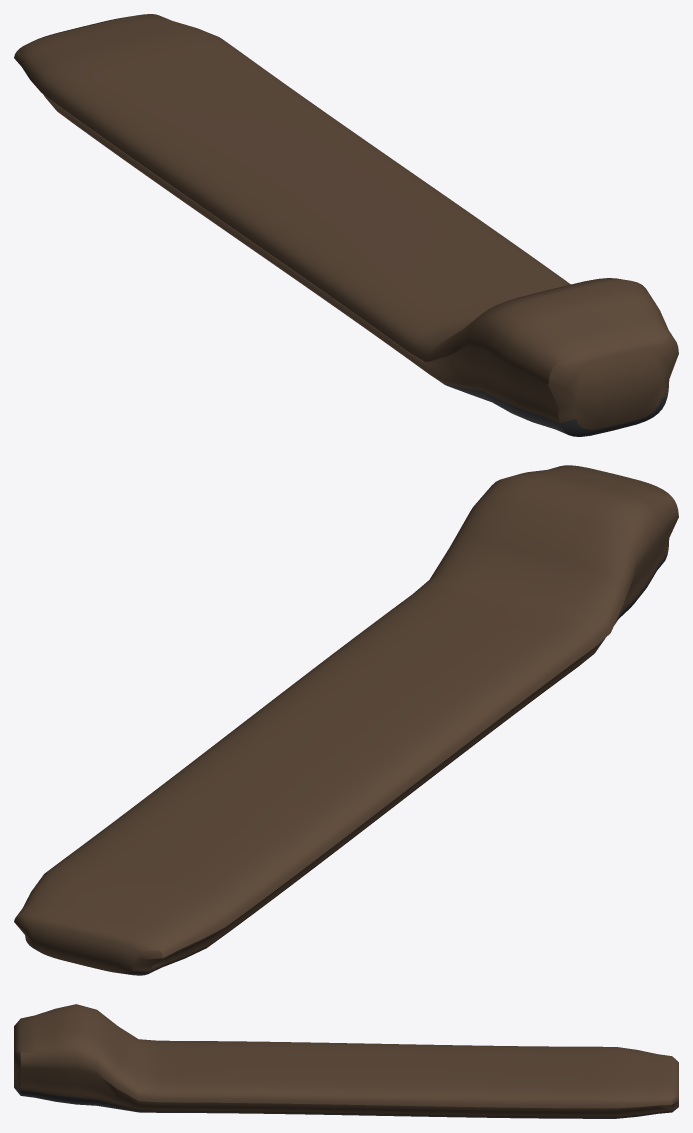
Rendered from flat_track.glb.
The picture shows the model from 3 angles, top to bottom: view 1: azimuth 30°, elevation 25°; view 2: azimuth 150°, elevation 25°; view 3: azimuth 270°, elevation 25°; orthographic projection. The views are drawn at different scales.
Parts seen in each view (by area): view 1: lod0; view 2: lod0; view 3: lod0.
Part boxes in pixels (x1=…): lod0: x1=14, y1=14, x2=678, y2=436; lod0: x1=14, y1=465, x2=678, y2=975; lod0: x1=14, y1=1004, x2=678, y2=1118.
Size of what is drawn, in the model's own units: 0.1996 by 0.1347 by 1.
